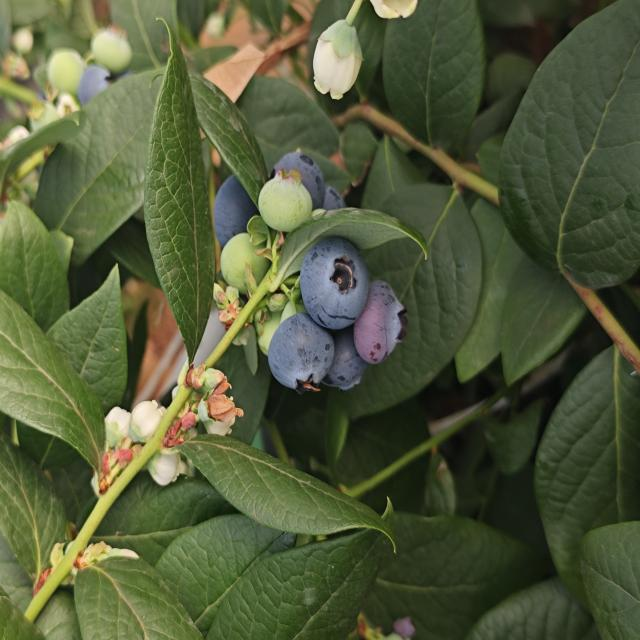ripe: (299, 232, 371, 335), (347, 276, 422, 361), (267, 312, 337, 402), (266, 141, 346, 218), (203, 164, 268, 247), (320, 328, 377, 398), (74, 60, 120, 116)
